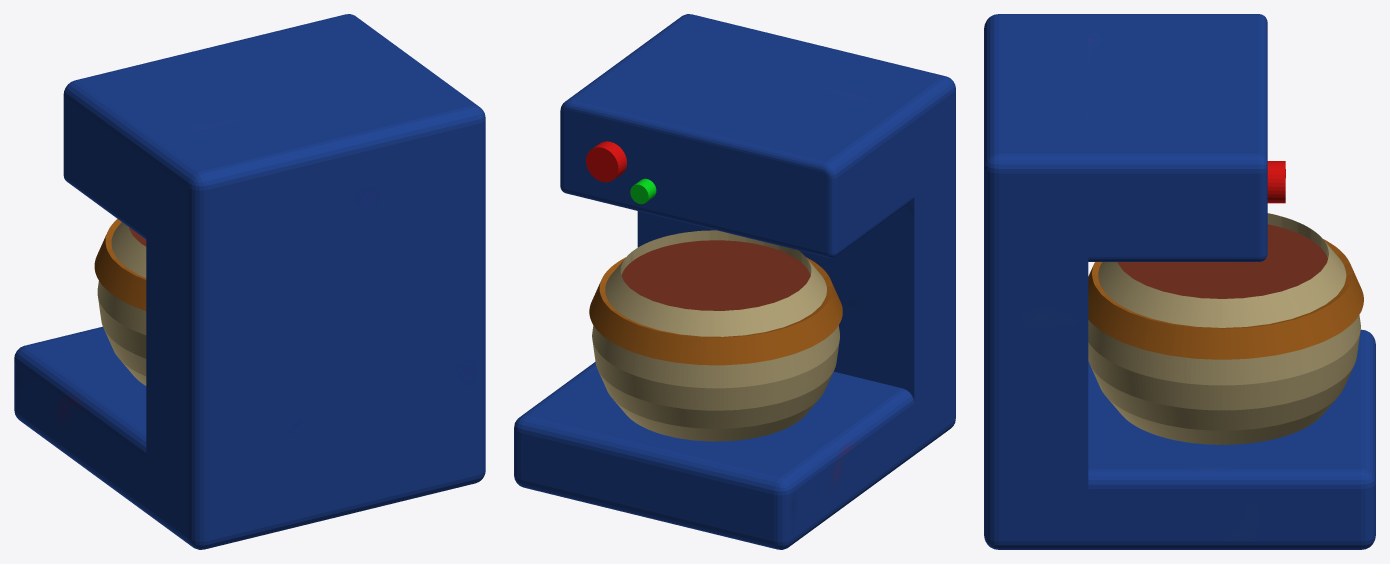
Rendered from Coffee machine.fbx.
3 renders of one model, left to right at view 1: azimuth 30°, elevation 25°; view 2: azimuth 150°, elevation 25°; view 3: azimuth 270°, elevation 25°, orthographic. The views are drawn at different scales.
Visible parts, largest first — view 1: Cube; view 2: Cube; view 3: Cube.
Boxes of the visible parts, bbox=[...] form: Cube: bbox=[14, 14, 485, 549]; Cube: bbox=[514, 14, 955, 549]; Cube: bbox=[984, 14, 1375, 549].
Size of the model in its own units: 460 by 562 by 505.
1 material, 1 textured.
